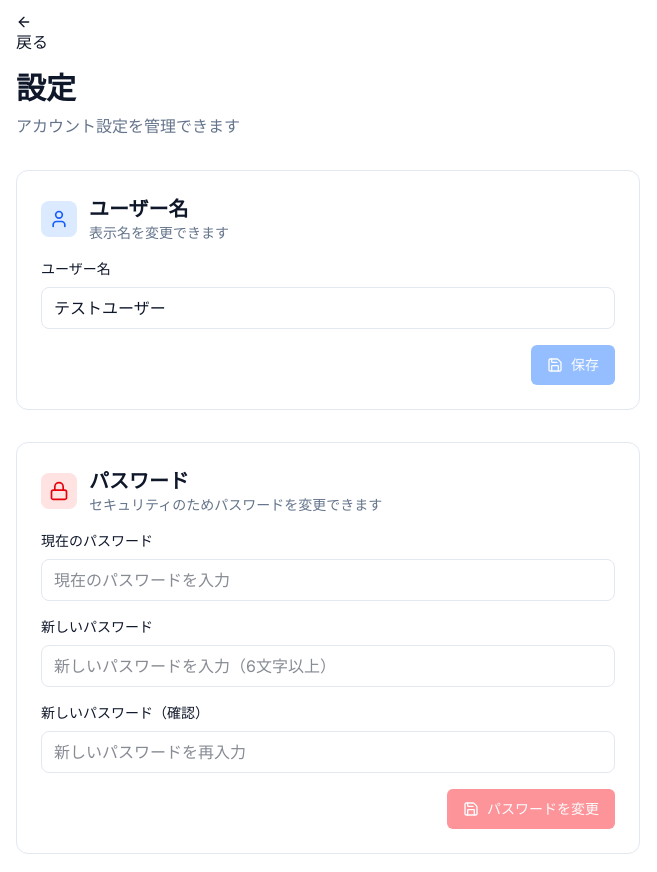
Test: SettingsPage › should update username successfully
The width and height of the screenshot is (657, 872).
Note: Change username
Replace the text in the field labelled "ユーザー名" with "新しいユーザー名" at [328, 308], box [41,287,615,329]
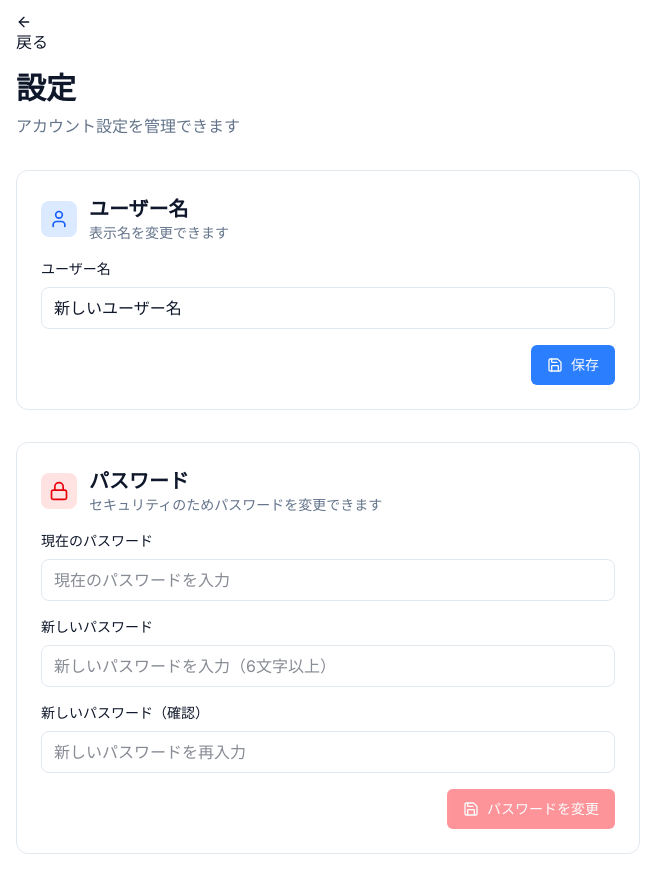
Click the button "保存" at [573, 365], box [531,345,615,385]
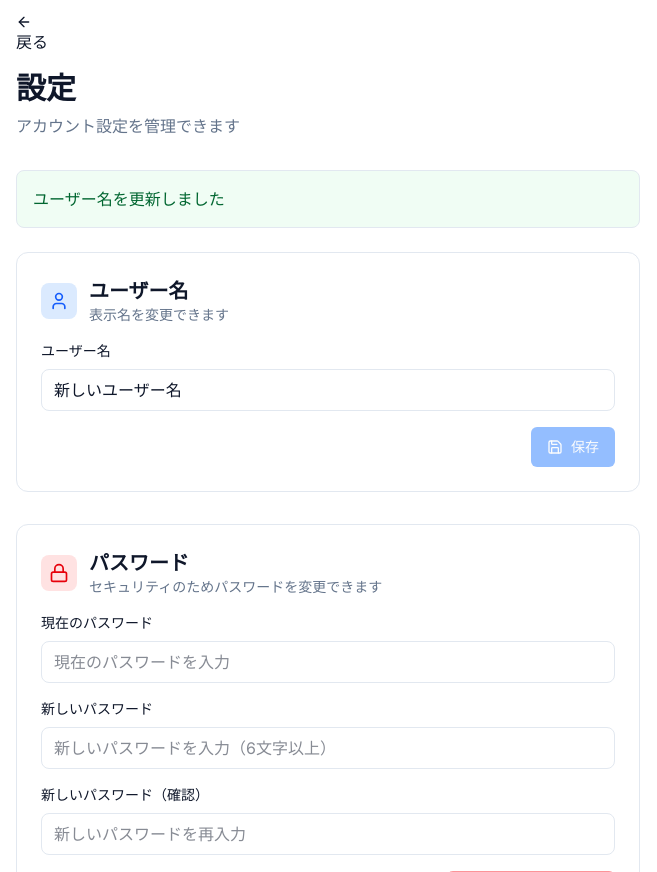
expect the text "ユーザー名を更新しました" is shown: met, box [16,170,640,228]
